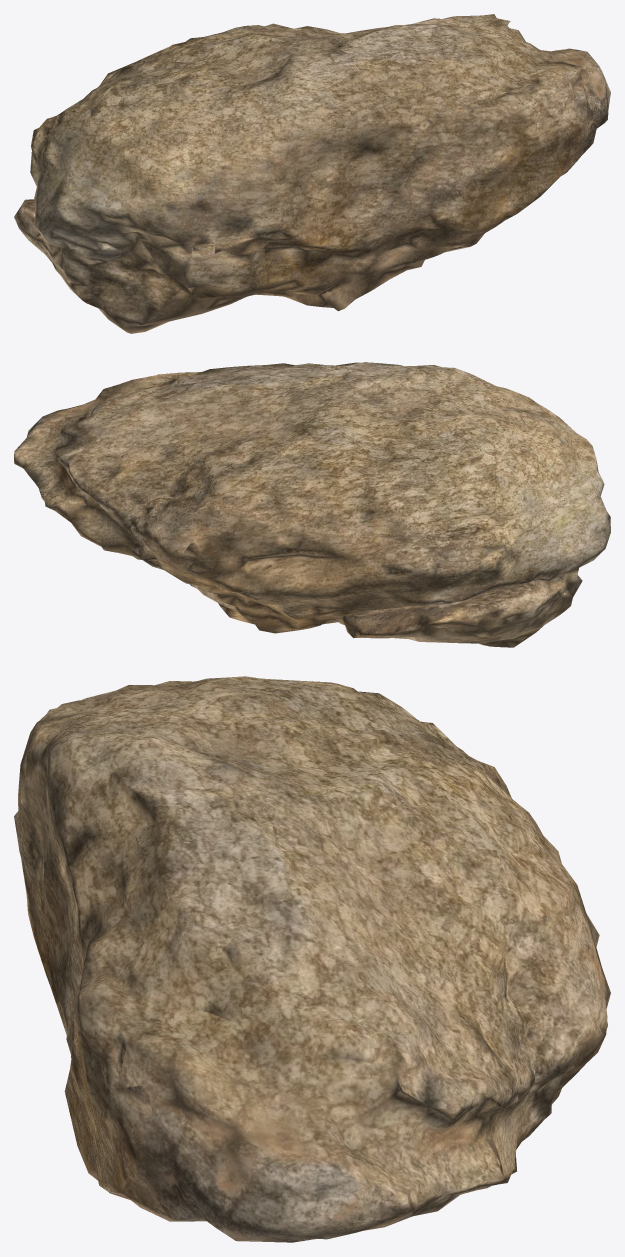
The model's file is namaqualand_boulder_05.glb.
3 views of the same model, one above another, from view 1: azimuth 30°, elevation 25°; view 2: azimuth 150°, elevation 25°; view 3: azimuth 270°, elevation 25° (orthographic). The views are drawn at different scales.
Visible parts, largest first — view 1: a_lod0; view 2: a_lod0; view 3: a_lod0.
Part boxes in pixels (left/top/right/bottom): a_lod0: left=14, top=14, right=610, bottom=333; a_lod0: left=14, top=362, right=610, bottom=647; a_lod0: left=14, top=676, right=610, bottom=1242.
Size of what is drawn, in the model's own units: 1.35 by 0.5297 by 0.7462.
Materials: 1 (1 with a texture image).
